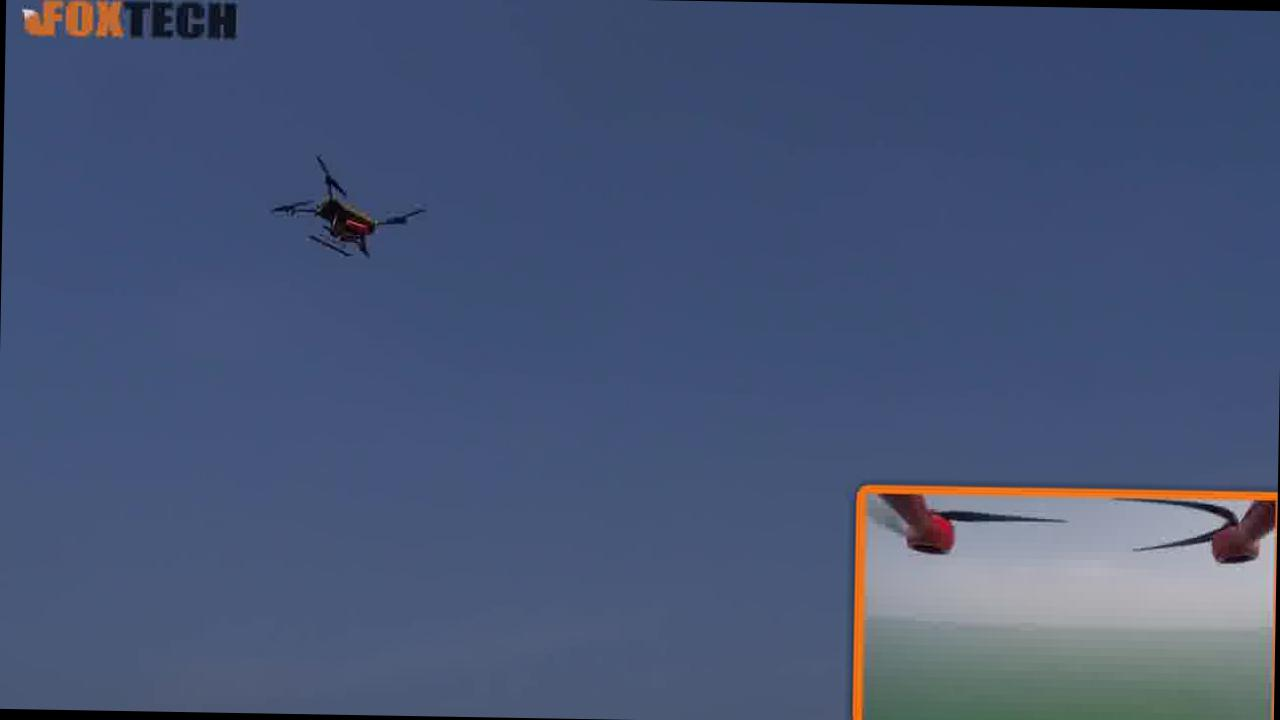drone: (256, 138, 442, 270)
